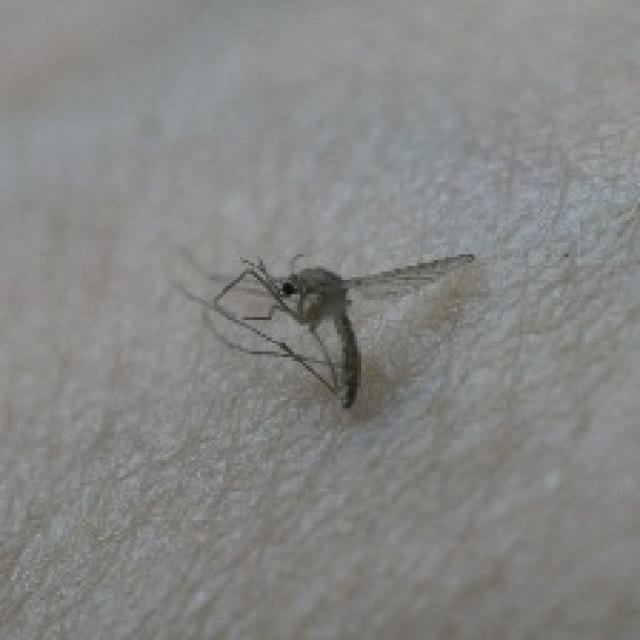culex: (174, 246, 477, 408)
